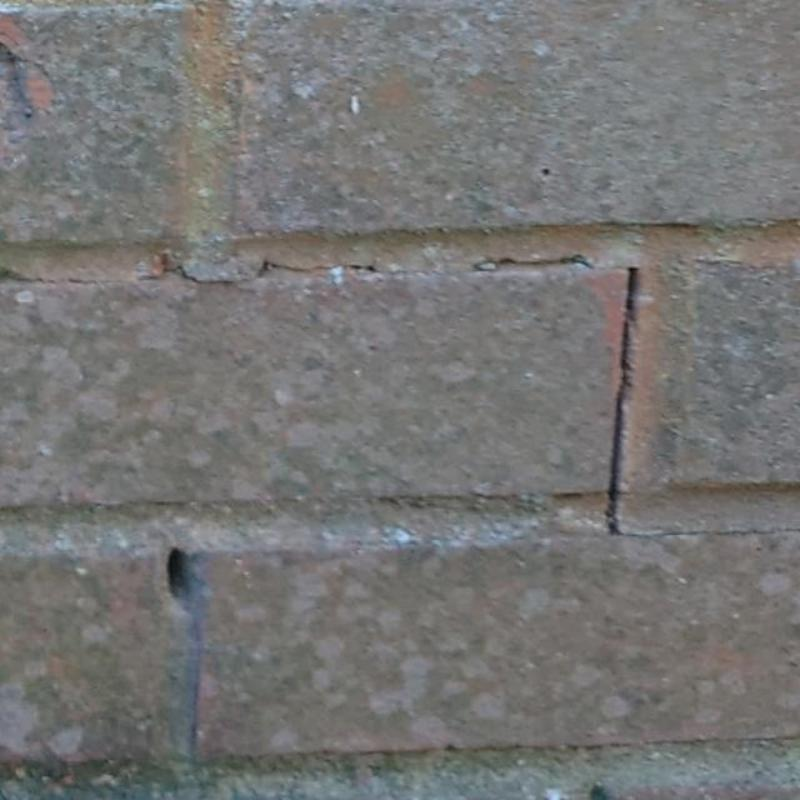pothole: (606, 267, 637, 534), (140, 262, 378, 284), (0, 270, 98, 286), (619, 529, 799, 536), (168, 549, 190, 604), (495, 258, 595, 270)
